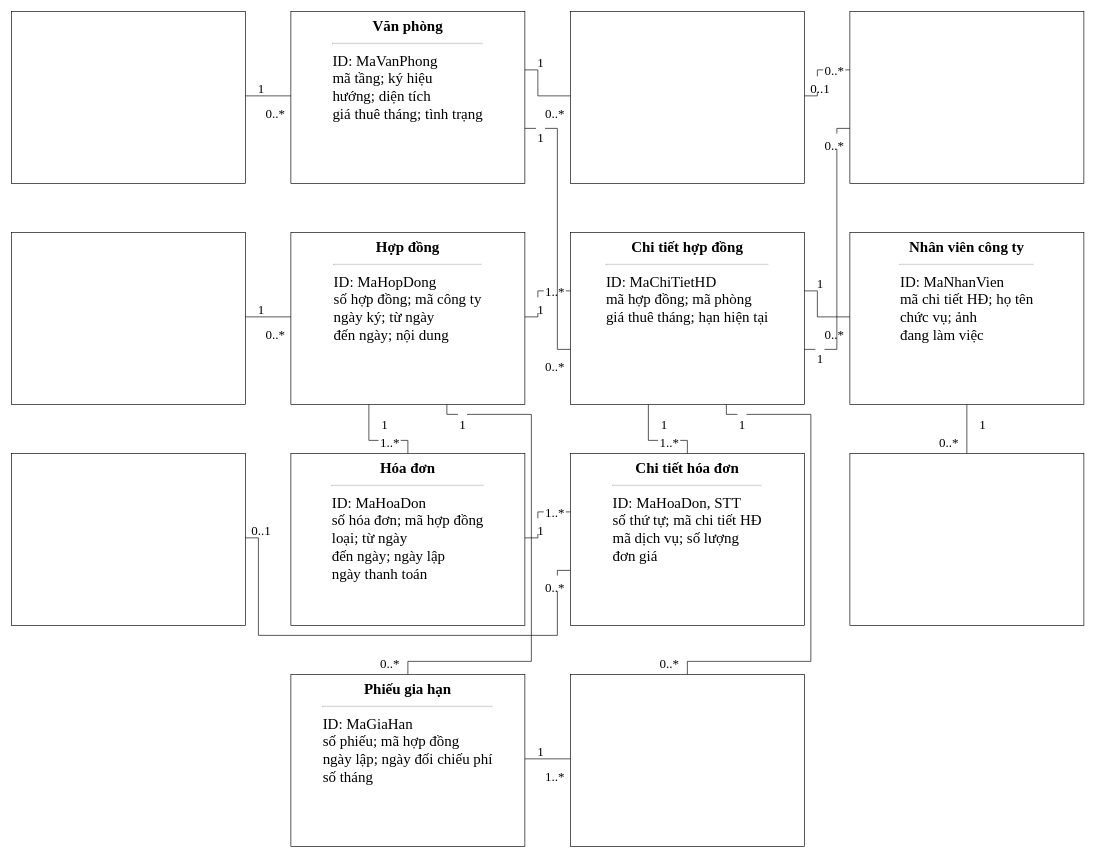
This 1095x858 diagram has some shape labels left out. Here are the shapes that lost their labels. From the top down, the centre of each, then its label:
(128,97): Tầng ID: MaTang số tầng
(687,97): Kiểm tra ID: MaKiemTra mã phòng; ngày kiểm tra kết quả; ghi chú
(966,97): Vi phạm ID: MaViPham mã chi tiết HĐ; mã kiểm tra ngày lập; nội dung tiền phạt
(128,318): Công ty ID: MaCongTy tên công ty; người đại diện điện thoại; địa chỉ
(128,539): Dịch vụ ID: MaDichVu tên dịch vụ; đơn vị tính đơn giá
(966,539): Thẻ giữ xe ID: MaThe mã nhân viên; loại xe biển số; ngày cấp còn hiệu lực
(687,760): Chi tiết gia hạn ID: MaGiaHan, MaChiTietHD mã chi tiết HĐ; từ ngày hạn mới
